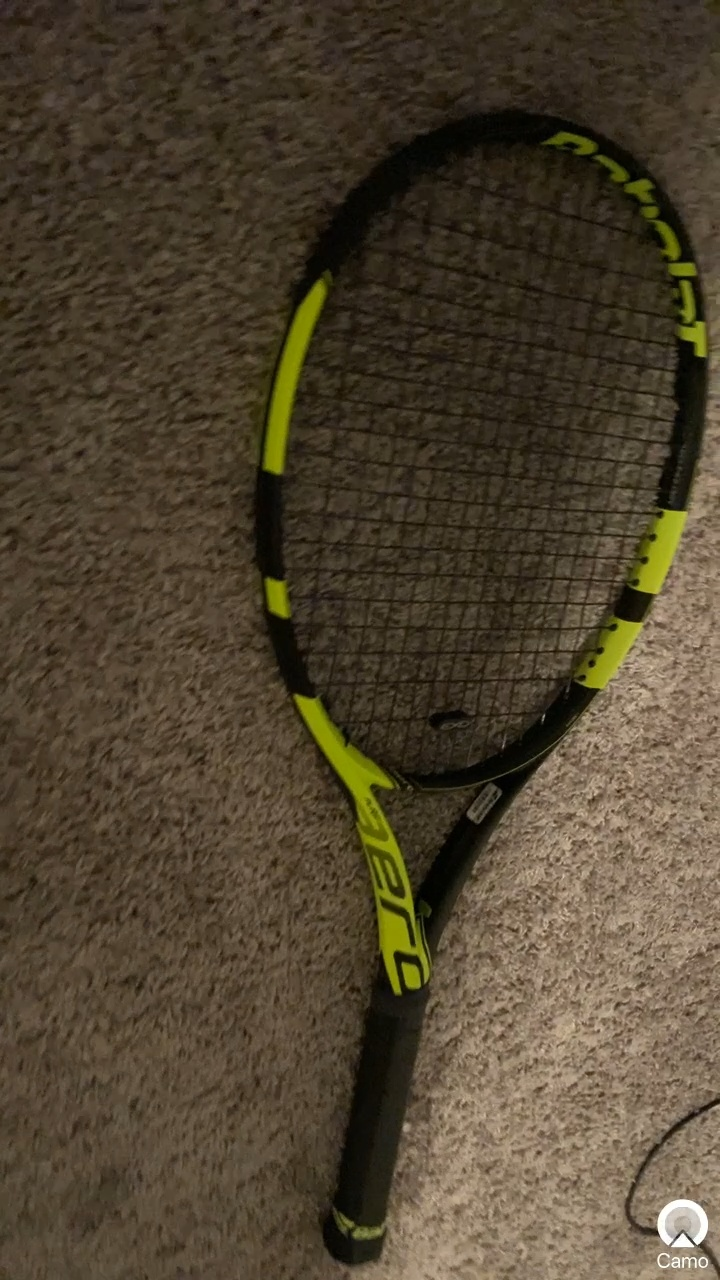Tennis_Racquet: (248, 83, 720, 1278)
